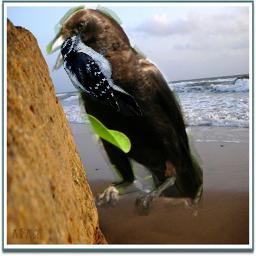Crow: (46, 4, 203, 216)
Woodpecker: (59, 29, 143, 116)
